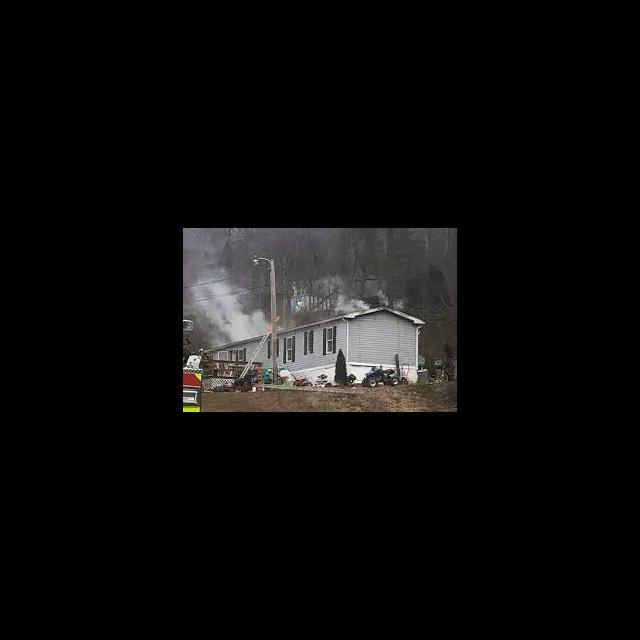Smoke: (222, 310, 260, 335), (335, 296, 369, 310), (206, 302, 238, 310), (378, 290, 390, 306), (194, 288, 205, 298), (213, 284, 226, 292)
